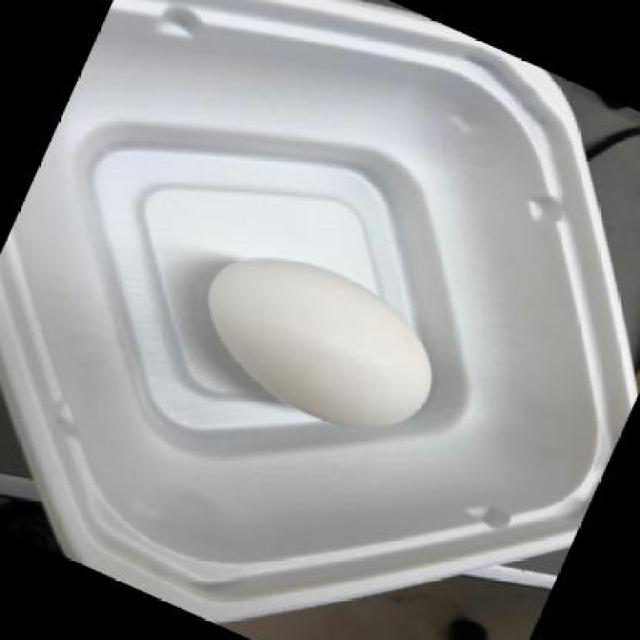egg: (205, 248, 435, 433)
